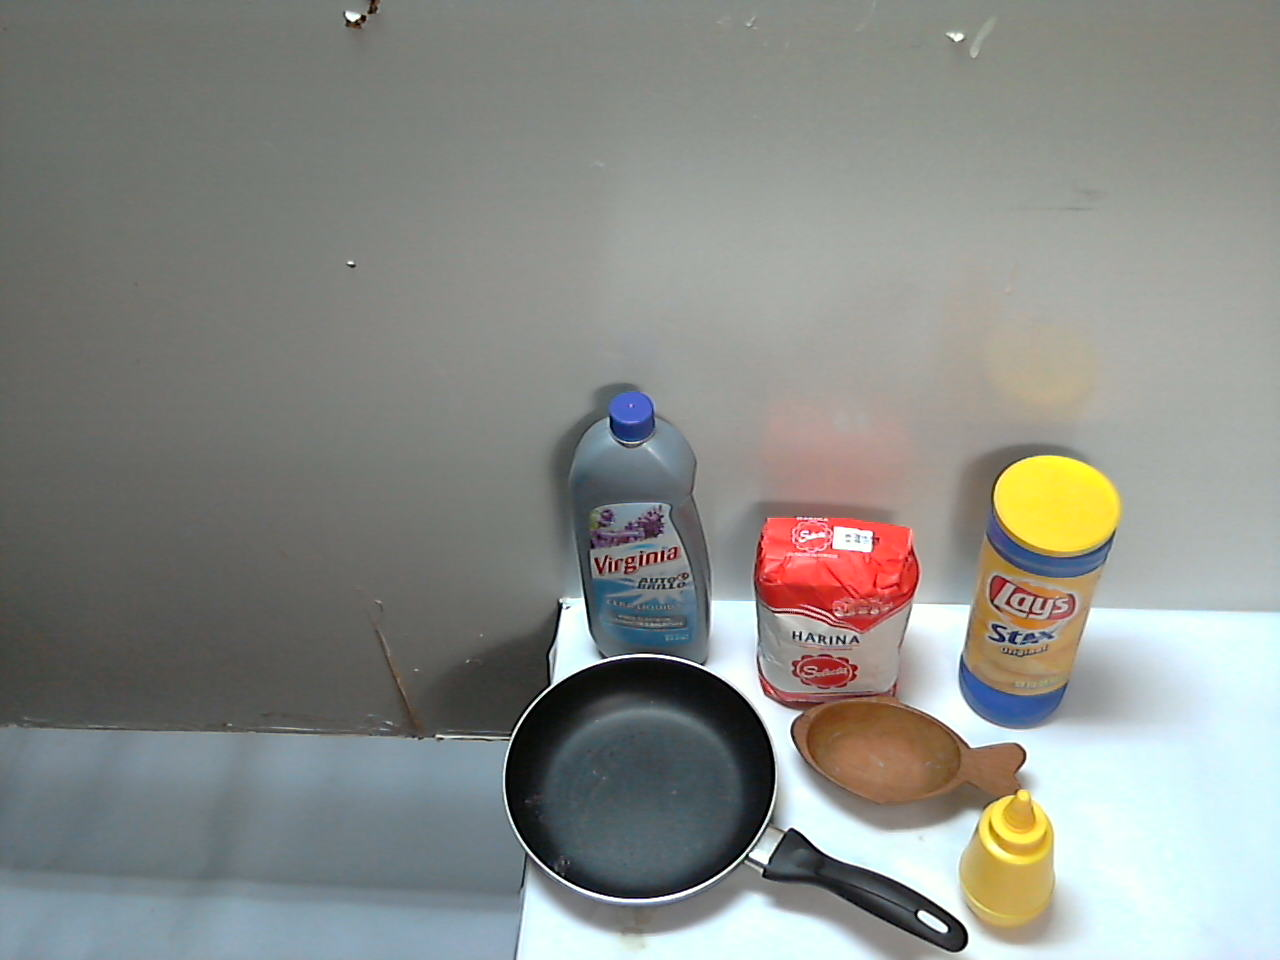azucarero: (958, 809, 1123, 960)
desodorante: (744, 632, 839, 767)
greda: (698, 776, 933, 960)
ketchup: (838, 591, 945, 756)
leche: (957, 570, 1141, 813)
sarten: (357, 606, 745, 960)
